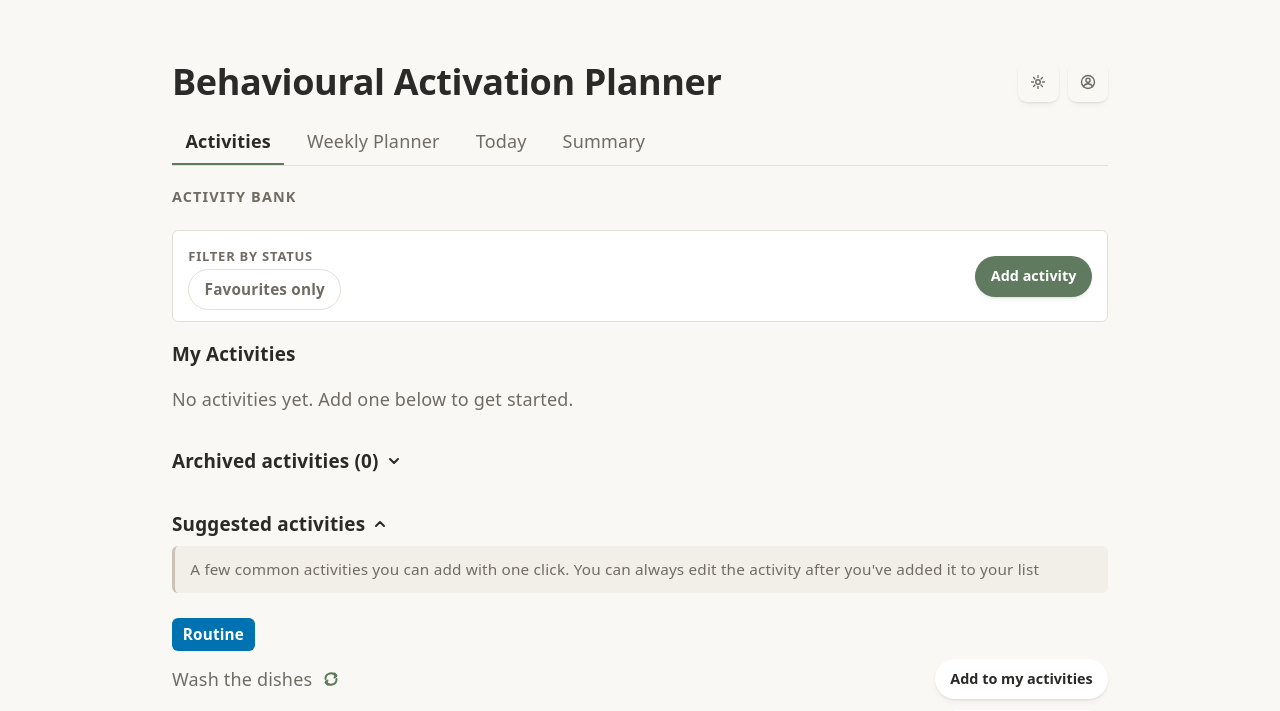
Scenario: App › FRONTEND-005-AC-01/AC-02/AC-03: tab nav renders, navigates, marks the active tab › navigates to /planner and marks it active when its tab is clicked
Step 1. Click the link "Weekly Planner" → [373, 141], box [307,129,440,153]
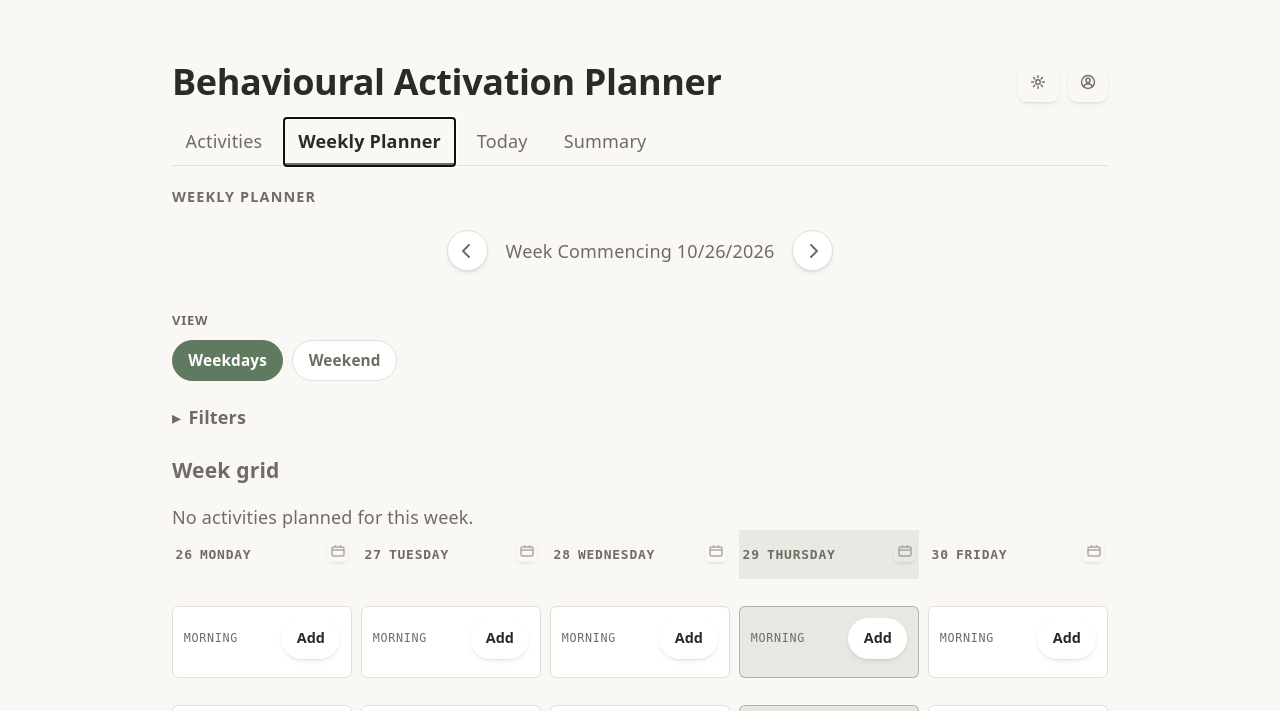
Check: the heading "Weekly planner" is shown, box [172,187,316,206]
